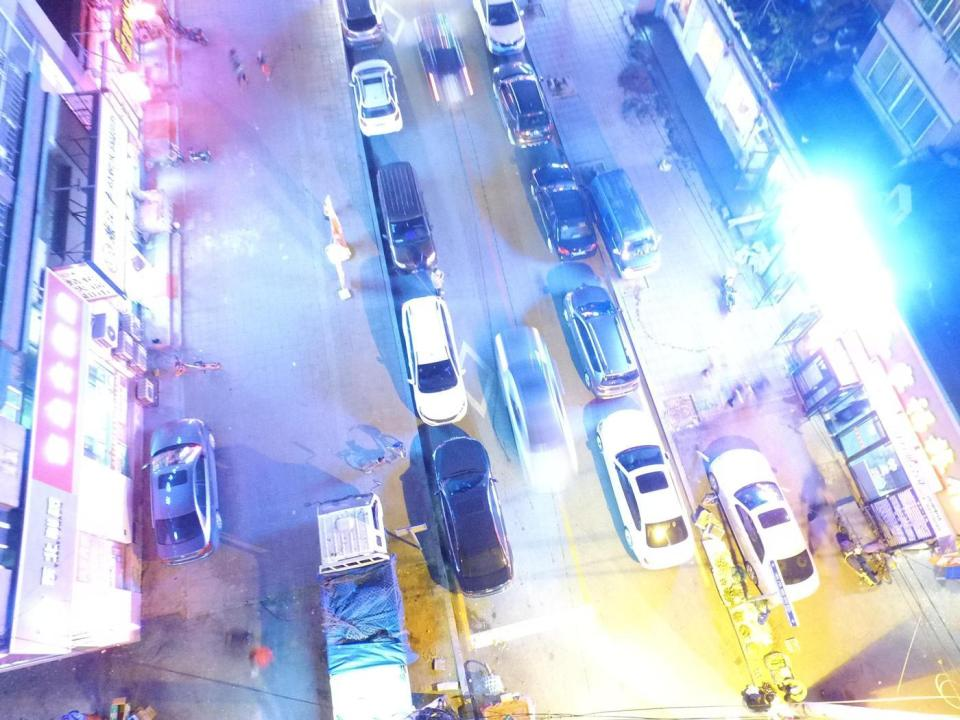car: (707, 447, 821, 606), (595, 408, 696, 570), (495, 326, 579, 492), (432, 437, 515, 599), (148, 416, 224, 567), (561, 284, 641, 400), (400, 294, 468, 427), (529, 160, 598, 262), (490, 59, 555, 148), (350, 57, 404, 137), (472, 0, 526, 56), (335, 0, 385, 51)
truck: (316, 491, 415, 720)
van: (586, 167, 662, 279), (374, 160, 438, 278)
